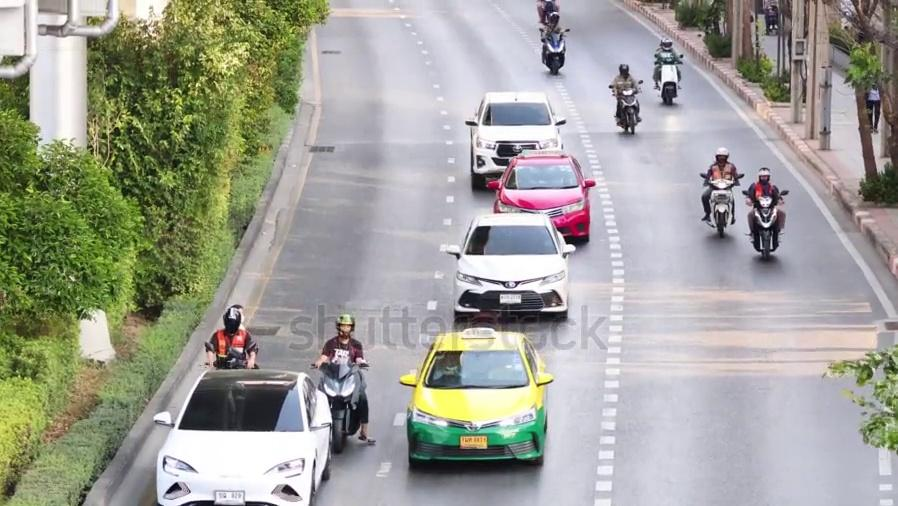person: (864, 82, 881, 133)
rider: (310, 313, 376, 444), (203, 304, 259, 369), (699, 146, 741, 222), (742, 167, 785, 240), (609, 63, 642, 124), (541, 11, 571, 78), (652, 37, 683, 89)
with_helmate: (222, 308, 241, 334), (334, 315, 357, 334), (709, 147, 731, 164), (656, 34, 678, 51), (616, 63, 631, 77), (546, 14, 563, 26), (756, 171, 771, 184)
